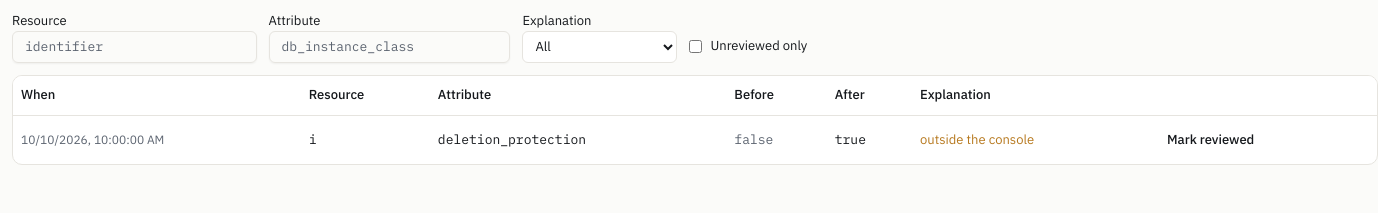
ChangesView › says why the changes could not be loaded or a review could not be saved
This screenshot has width=1378, height=213.
Click the button "Mark reviewed" at coordinates (1211, 140), box [1155, 124, 1266, 156]
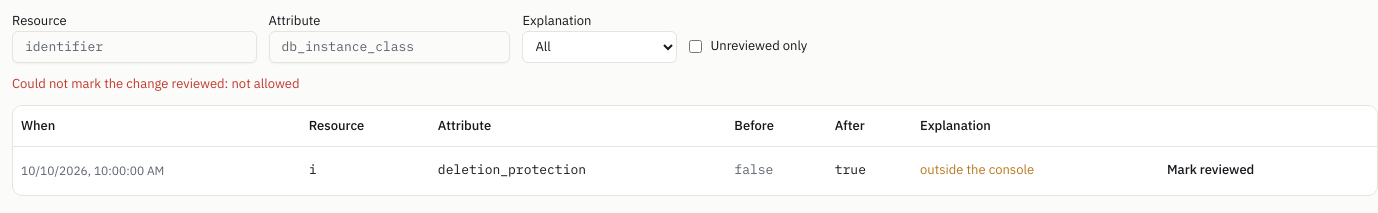
expect the message reads "Could not mark the change reviewed: not allowed": met, box [12, 75, 300, 92]
Select "By the console" in the dropdown labelled "Explanation" at coordinates (600, 47), box [522, 31, 678, 63]
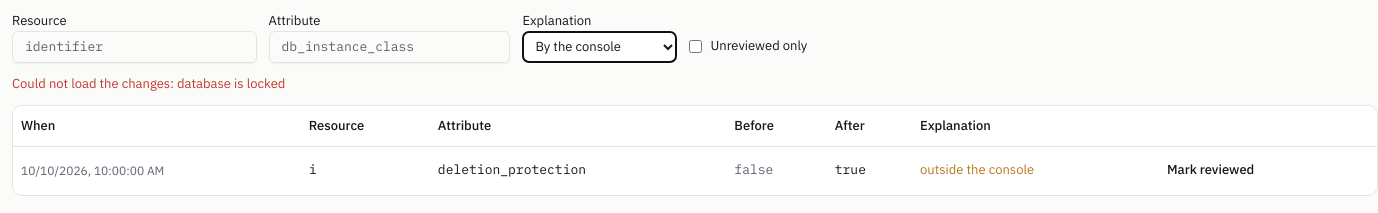
expect the message reads "Could not load the changes: database is locked": met, box [12, 75, 285, 92]
